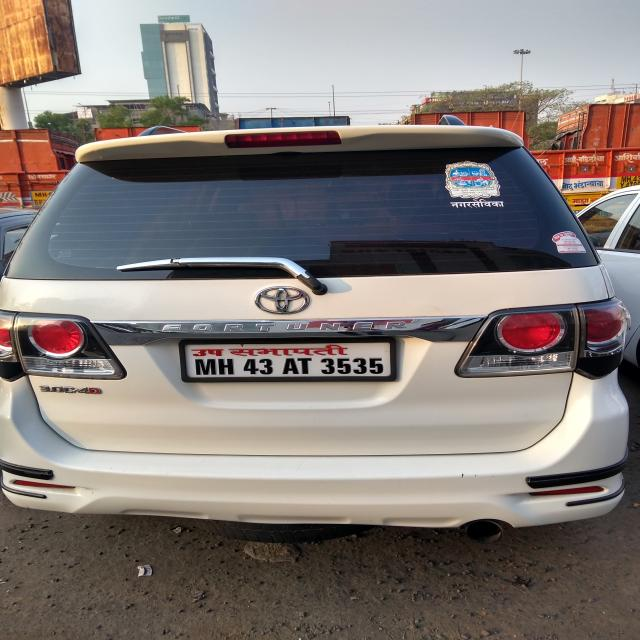Number-Plate: (188, 351, 391, 382)
